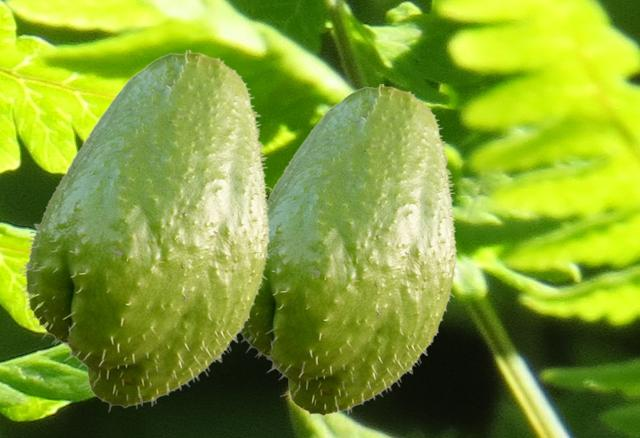sayote: (17, 50, 271, 411), (238, 84, 458, 419)
